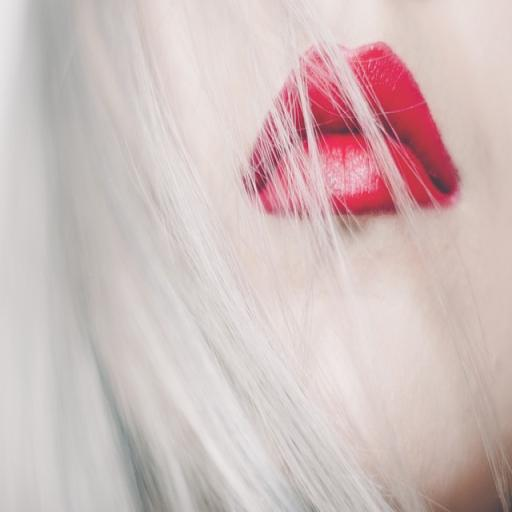lipstick: (246, 49, 395, 213)
